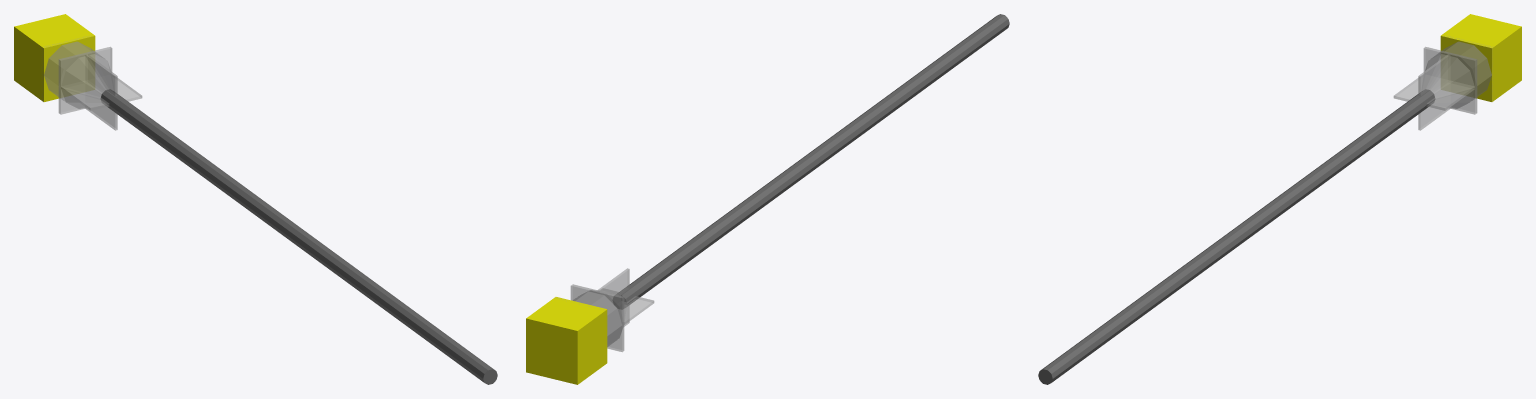
The model's file is spinalNeedle1.fbx.
3 renders of one model, left to right at view 1: azimuth 30°, elevation 25°; view 2: azimuth 150°, elevation 25°; view 3: azimuth 330°, elevation 25°, orthographic.
Visible parts, largest first — view 1: Needle1, Head, pCone1, pCube1, pCube2, pCylinder2, pCube3; view 2: Needle1, Head, pCube1, pCylinder2, pCube2, pCube3; view 3: Needle1, Head, pCone1, pCube1, pCube2, pCylinder2, pCube3.
Boxes of the visible parts, x1,y1,x2,y2 form: Needle1: (100, 89, 497, 384); Head: (14, 14, 95, 101); pCone1: (61, 54, 111, 108); pCube1: (58, 47, 112, 114); pCube2: (85, 54, 117, 130); pCylinder2: (44, 41, 102, 100); pCube3: (61, 74, 142, 110); Needle1: (613, 14, 1009, 308); Head: (526, 297, 607, 384); pCube1: (570, 284, 624, 351); pCylinder2: (573, 291, 622, 346); pCube2: (597, 268, 629, 326); pCube3: (600, 288, 654, 324); Needle1: (1038, 89, 1435, 384); Head: (1440, 14, 1521, 101); pCone1: (1424, 54, 1474, 108); pCube1: (1423, 47, 1477, 114); pCube2: (1418, 54, 1450, 130); pCylinder2: (1433, 41, 1491, 100); pCube3: (1393, 74, 1474, 110).
Size of the model in its own units: 0.007 by 0.007 by 0.106.
